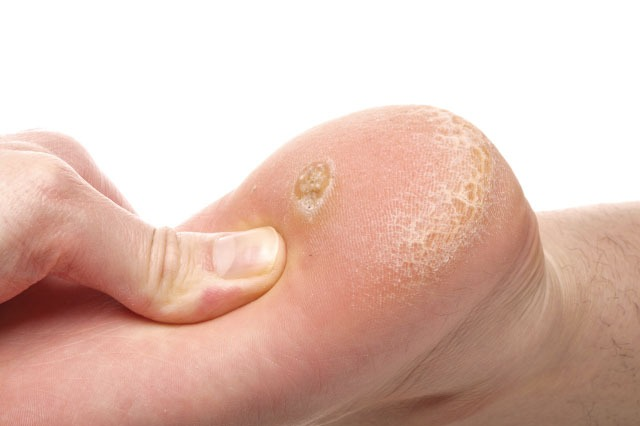Warts: (273, 145, 352, 223)
